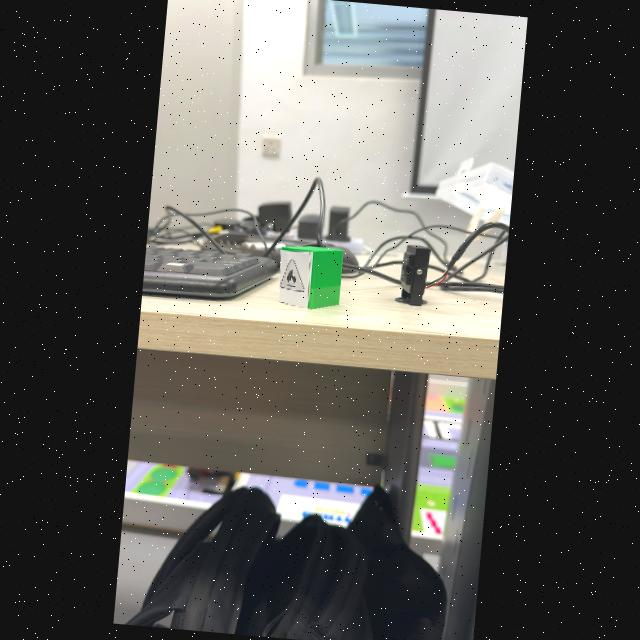Fire: (280, 260, 303, 291)
